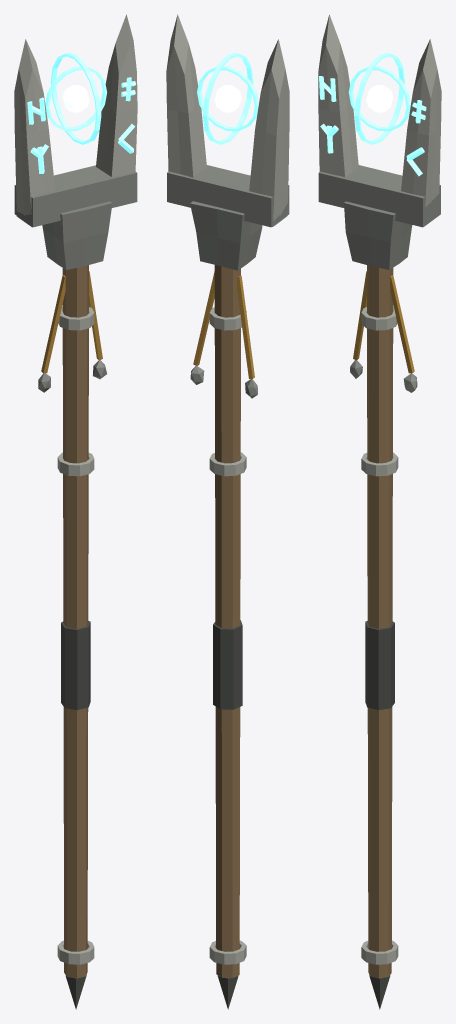
Rendered from orla_tuning_staff.glb.
The picture shows the model from 3 angles, left to right: view 1: azimuth 30°, elevation 25°; view 2: azimuth 150°, elevation 25°; view 3: azimuth 330°, elevation 25°; orthographic projection.
Visible parts, largest first — view 1: orla_tuning_staff; view 2: orla_tuning_staff; view 3: orla_tuning_staff.
Boxes of the visible parts, left/top/right/bottom form: orla_tuning_staff: left=14, top=14, right=137, bottom=1009; orla_tuning_staff: left=166, top=14, right=289, bottom=1009; orla_tuning_staff: left=318, top=14, right=441, bottom=1009.
Size of the model in its own units: 0.3295 by 2.7 by 0.232.
